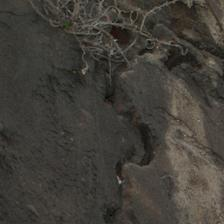Crack: (115, 117, 159, 187)
